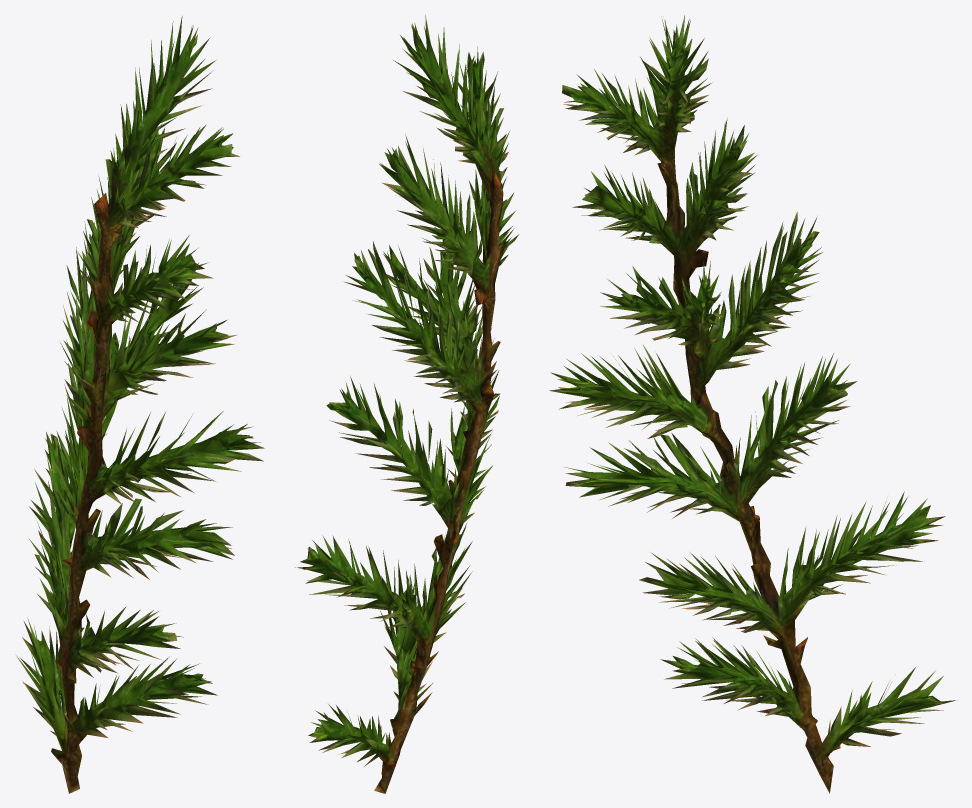
File: PineBranch.glb
3 renders of one model, left to right at view 1: azimuth 30°, elevation 25°; view 2: azimuth 150°, elevation 25°; view 3: azimuth 270°, elevation 25°, orthographic. The views are drawn at different scales.
Visible parts, largest first — view 1: tripo_node_964861f3-4bdf-49b9-a17c-11e33229632a; view 2: tripo_node_964861f3-4bdf-49b9-a17c-11e33229632a; view 3: tripo_node_964861f3-4bdf-49b9-a17c-11e33229632a.
Boxes of the visible parts, <box> form: tripo_node_964861f3-4bdf-49b9-a17c-11e33229632a: <box>15,16,264,793</box>; tripo_node_964861f3-4bdf-49b9-a17c-11e33229632a: <box>295,15,518,793</box>; tripo_node_964861f3-4bdf-49b9-a17c-11e33229632a: <box>549,15,955,793</box>.
Size of the model in its own units: 0.1703 by 0.9966 by 0.4672.
Materials: 1 (1 with a texture image).
